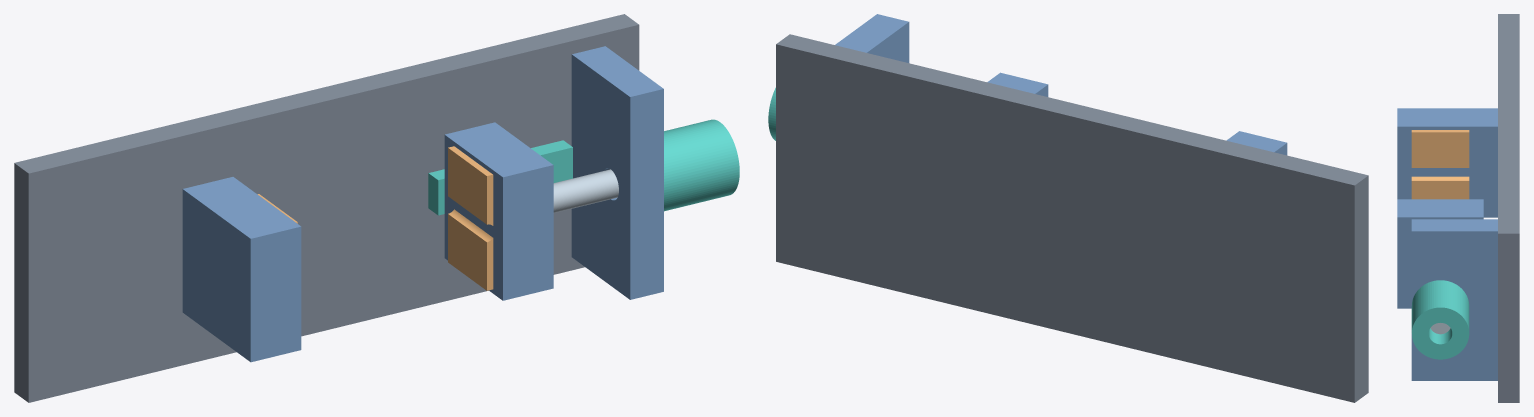
Rendered from assembly.glb.
The picture shows the model from 3 angles, left to right: view 1: azimuth 30°, elevation 25°; view 2: azimuth 150°, elevation 25°; view 3: azimuth 270°, elevation 25°; orthographic projection. The views are drawn at different scales.
Visible parts, largest first — view 1: base, actuator_support, fixed_jaw, moving_jaw, actuator_body, moving_pad, rod, rail_central; view 2: base, actuator_support, fixed_jaw, moving_jaw; view 3: actuator_support, base, fixed_jaw, actuator_body, fixed_pad, moving_jaw, rod.
Boxes of the visible parts, left/top/right/bottom form: base: left=14, top=14, right=639, bottom=402; actuator_support: left=571, top=46, right=663, bottom=299; fixed_jaw: left=182, top=177, right=301, bottom=362; moving_jaw: left=444, top=122, right=553, bottom=300; actuator_body: left=664, top=119, right=739, bottom=211; moving_pad: left=448, top=146, right=493, bottom=290; rod: left=553, top=169, right=618, bottom=212; rail_central: left=428, top=140, right=572, bottom=215; base: left=776, top=34, right=1368, bottom=402; actuator_support: left=835, top=14, right=909, bottom=62; fixed_jaw: left=1226, top=131, right=1287, bottom=155; moving_jaw: left=987, top=72, right=1048, bottom=96; actuator_support: left=1411, top=219, right=1497, bottom=380; base: left=1498, top=14, right=1519, bottom=402; fixed_jaw: left=1397, top=108, right=1497, bottom=217; actuator_body: left=1411, top=280, right=1469, bottom=359; fixed_pad: left=1411, top=130, right=1469, bottom=199; moving_jaw: left=1397, top=199, right=1483, bottom=308; rod: left=1430, top=323, right=1450, bottom=334.
Bounding box in the file's own units: 0.1548 × 0.052 × 0.034.
